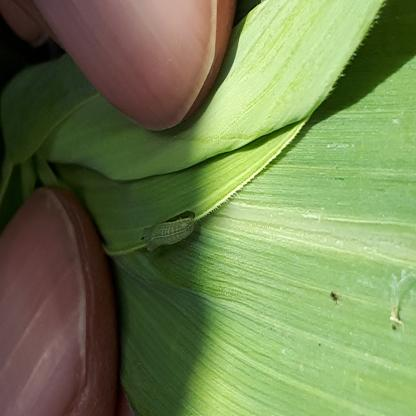armyworm: (93, 248, 112, 355)
